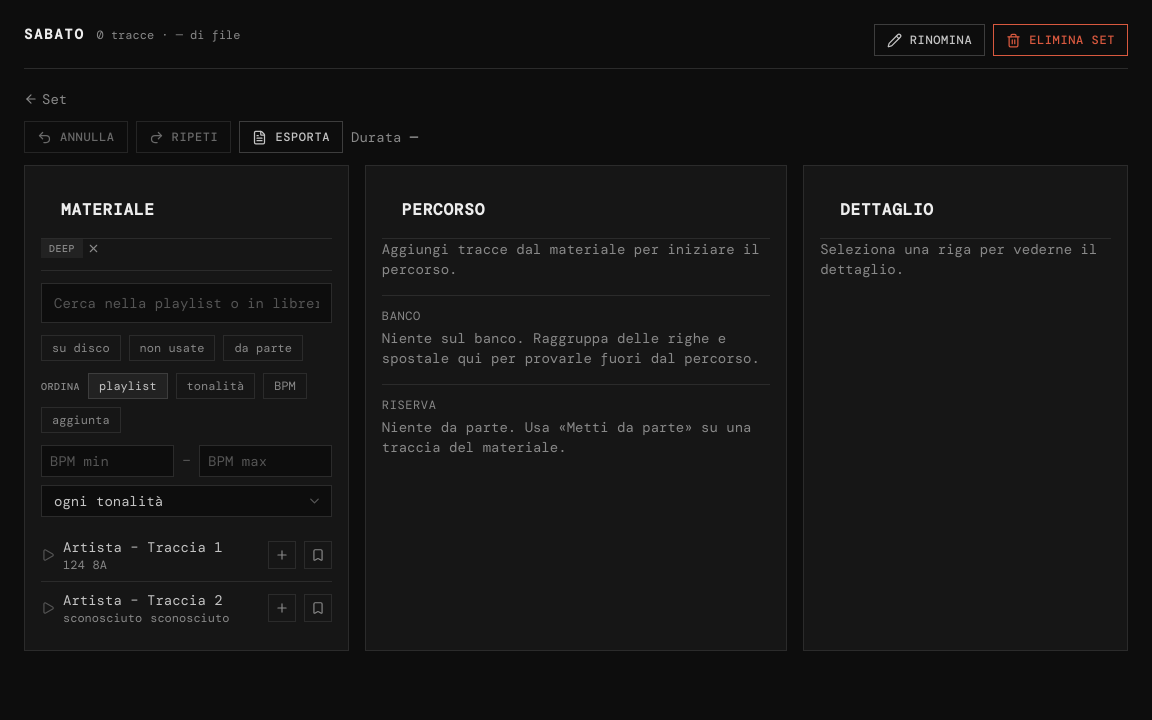
Scenario: set manuale: eliminazione › chiede conferma prima di eliminare
Check: the text "Artista – Traccia 1" is shown, box 63,538 -> 223,556
Check: the text "Eliminare il set?" is not shown
Click the button "Elimina set": click(1061, 40) 993,24 -> 1128,56
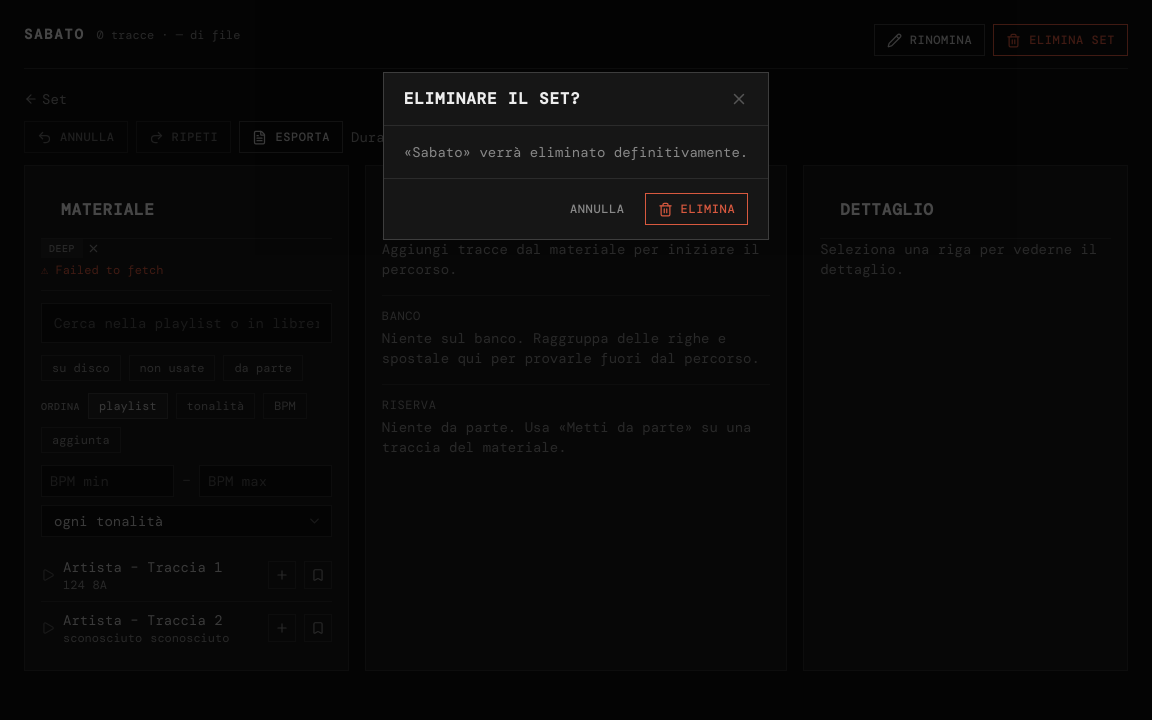
Check: the heading "Eliminare il set?" is shown, box 404,87 -> 581,111
Check: the text "«Sabato» verrà eliminato definitivamente." is shown, box 404,142 -> 748,162
